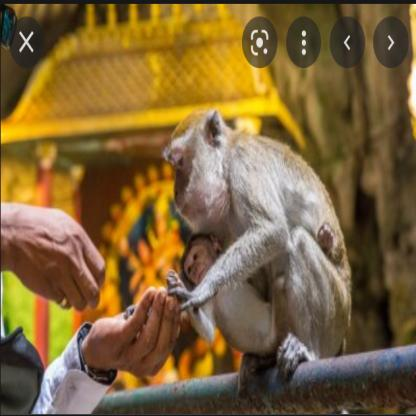monkey: (159, 106, 353, 390)
